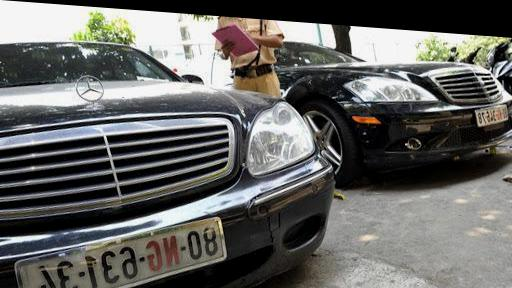License_Plate: (11, 200, 224, 288)
